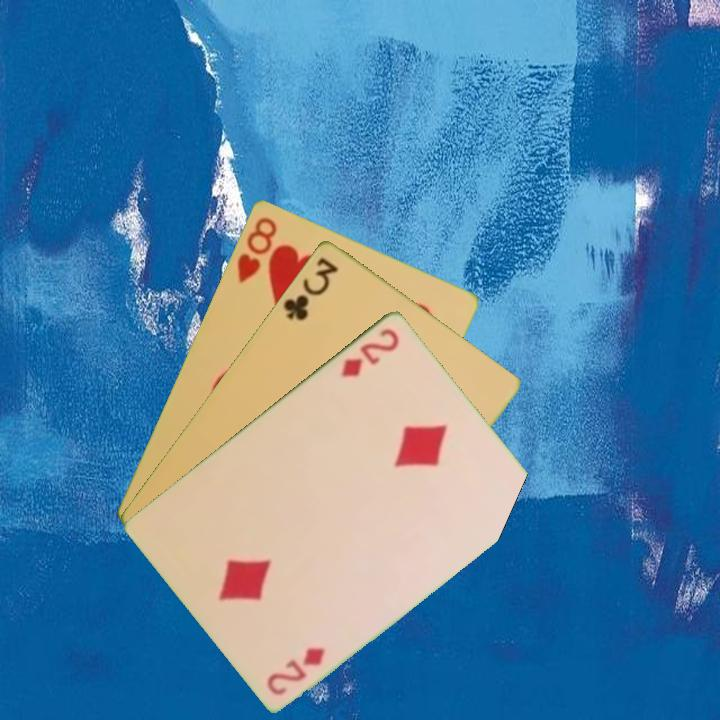2d: (338, 324, 402, 380), (263, 643, 328, 698)
3c: (279, 253, 341, 323)
8h: (233, 213, 280, 286)
